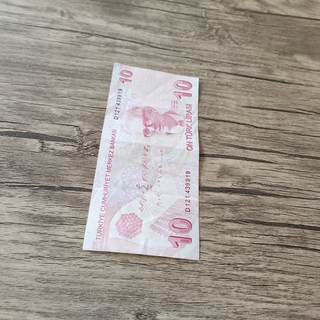10TLBack: (81, 59, 201, 261)
